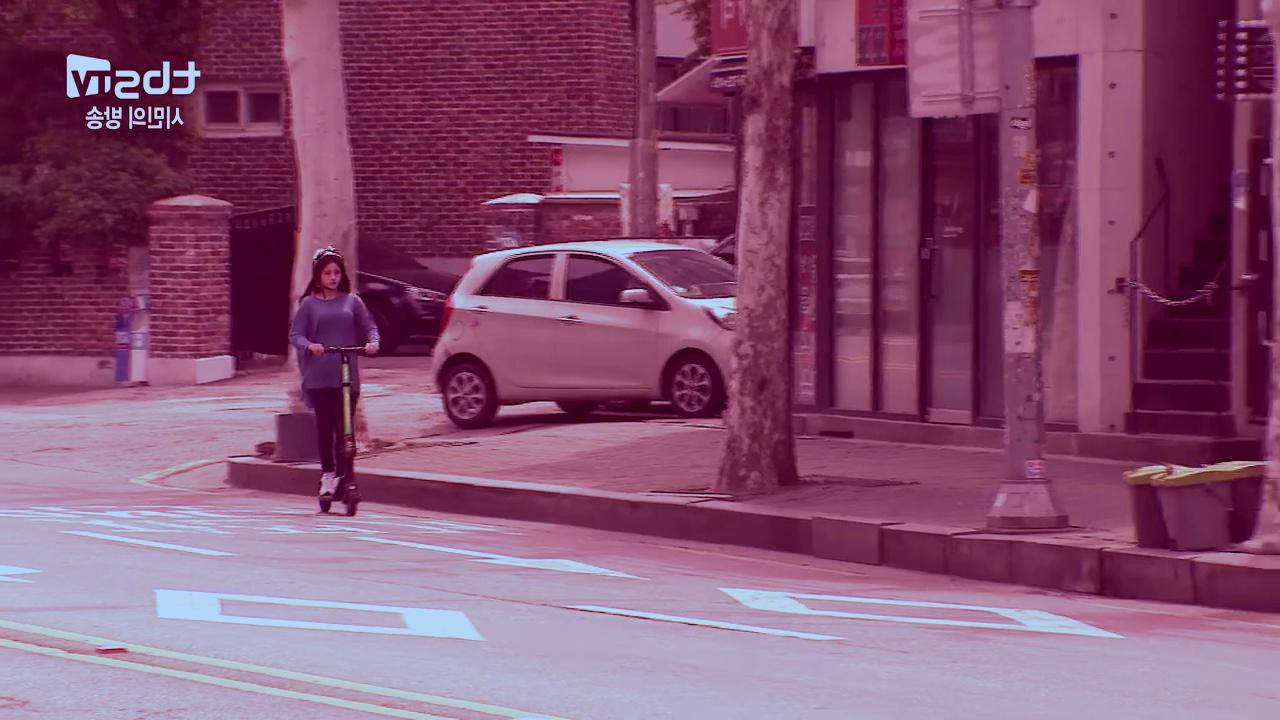helmet: (288, 245, 383, 515)
